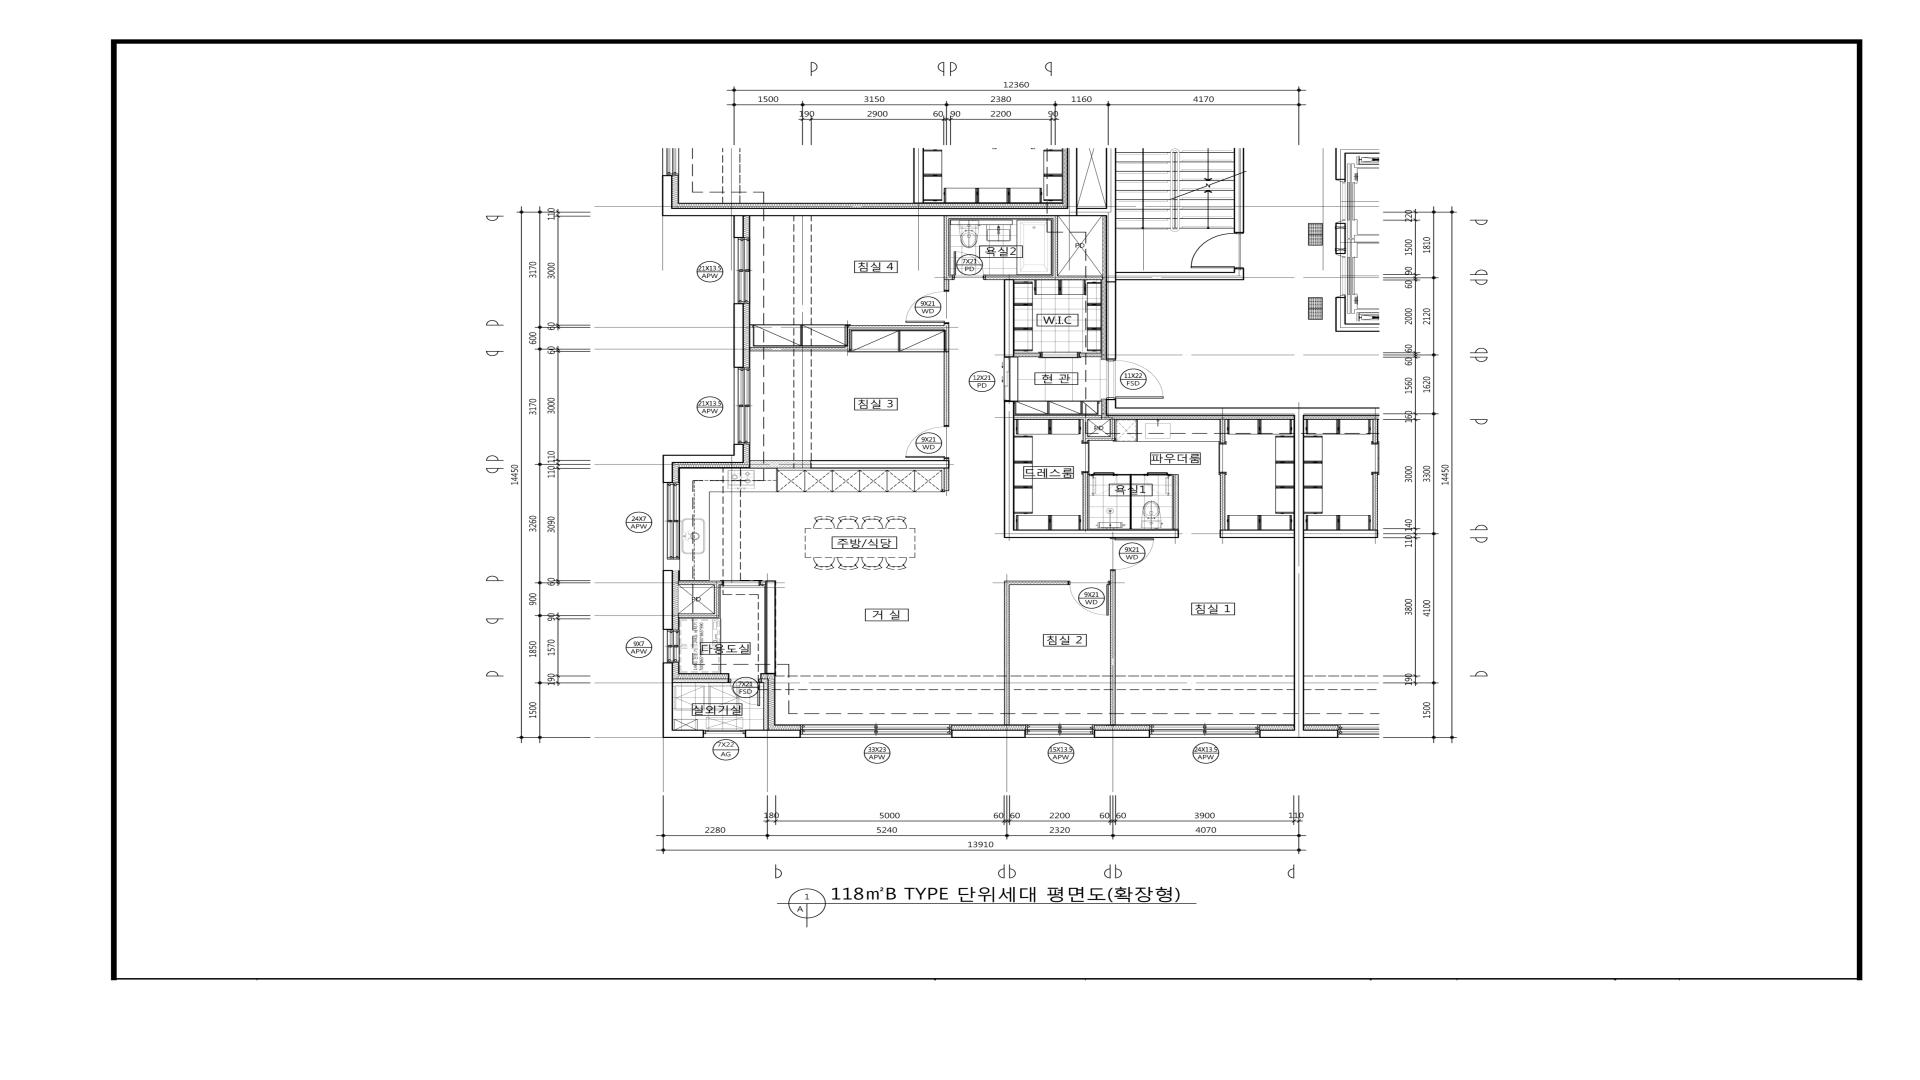door: (1108, 360, 1165, 399), (1190, 233, 1239, 268), (904, 426, 947, 459), (904, 291, 947, 323), (1068, 583, 1109, 616), (1113, 539, 1156, 569), (726, 681, 758, 707), (954, 251, 984, 278), (1091, 472, 1117, 496), (1145, 472, 1169, 496), (1081, 442, 1090, 472), (1039, 352, 1081, 358), (1219, 443, 1227, 473), (723, 580, 760, 586)
wall: (662, 148, 1077, 216), (1259, 415, 1305, 738), (1077, 148, 1116, 282), (1106, 399, 1380, 416), (662, 444, 744, 483), (663, 663, 704, 738), (1335, 297, 1380, 332), (1116, 268, 1245, 280), (1335, 148, 1380, 180), (1004, 530, 1179, 538), (1004, 401, 1014, 530), (811, 460, 950, 469), (765, 580, 776, 673), (1234, 148, 1245, 233), (1110, 570, 1116, 724), (1004, 585, 1010, 724), (1106, 282, 1116, 359), (1004, 280, 1014, 357), (733, 303, 744, 368), (662, 570, 673, 630), (984, 275, 1103, 280), (952, 730, 1026, 738), (1220, 530, 1294, 538), (944, 216, 953, 280), (750, 460, 811, 469), (944, 323, 949, 426), (1094, 730, 1150, 738), (745, 730, 801, 738), (750, 347, 850, 351), (845, 325, 944, 329), (1052, 216, 1058, 275), (1014, 415, 1102, 419), (1220, 473, 1226, 530), (1335, 223, 1346, 254), (1173, 474, 1179, 529), (1004, 580, 1068, 585), (949, 216, 1052, 219), (1083, 472, 1088, 530), (733, 216, 744, 238), (763, 690, 769, 730), (673, 679, 726, 683), (673, 613, 714, 618), (714, 585, 720, 618), (678, 581, 723, 585), (1129, 476, 1132, 530), (944, 468, 950, 491), (1110, 419, 1116, 441), (1083, 419, 1088, 442), (1220, 420, 1225, 443), (1014, 353, 1039, 357), (760, 679, 769, 690), (1088, 437, 1111, 441), (845, 329, 850, 347), (1081, 353, 1102, 357), (1117, 474, 1145, 476), (944, 280, 949, 291), (760, 581, 765, 585)
window: (800, 724, 952, 738), (1150, 724, 1260, 738), (663, 483, 680, 570), (733, 368, 751, 444), (733, 237, 751, 303), (1025, 724, 1094, 738), (663, 630, 680, 663), (704, 730, 745, 738)
